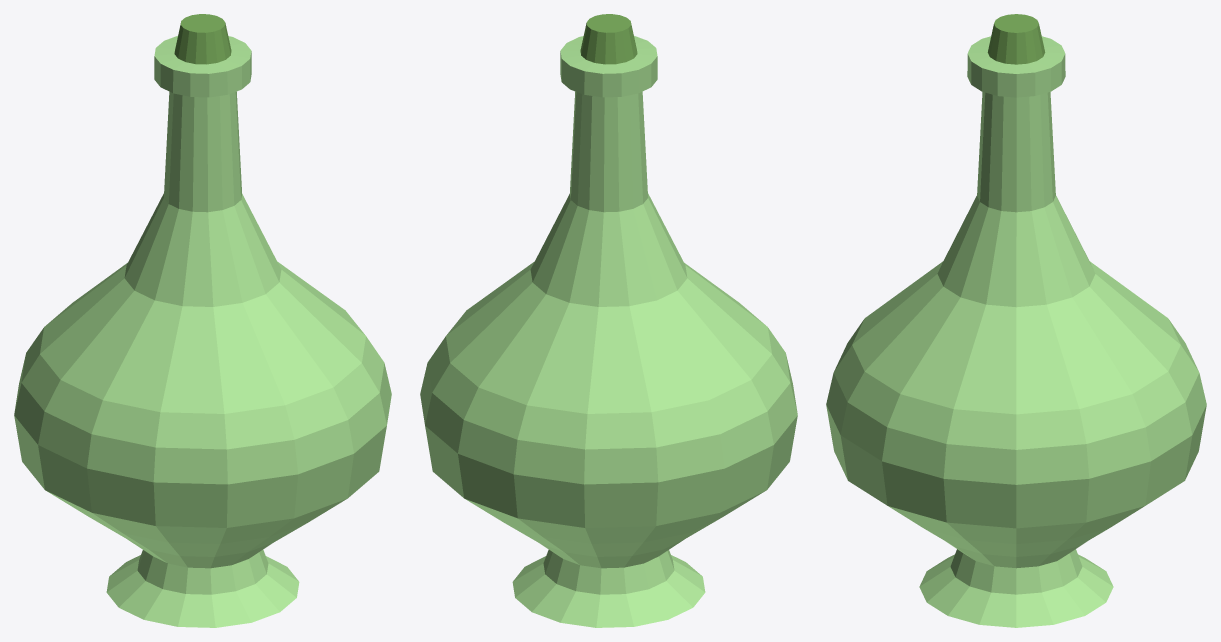
Rendered from lifePotion.fbx.
The picture shows the model from 3 angles, left to right: view 1: azimuth 30°, elevation 25°; view 2: azimuth 150°, elevation 25°; view 3: azimuth 270°, elevation 25°; orthographic projection.
Visible parts, largest first — view 1: life potion; view 2: life potion; view 3: life potion.
Part boxes in pixels (bbox=[...]): life potion: bbox=[14, 14, 391, 627]; life potion: bbox=[420, 14, 797, 627]; life potion: bbox=[826, 14, 1206, 627].
Bounding box in the file's own units: 213 × 347 × 213.
